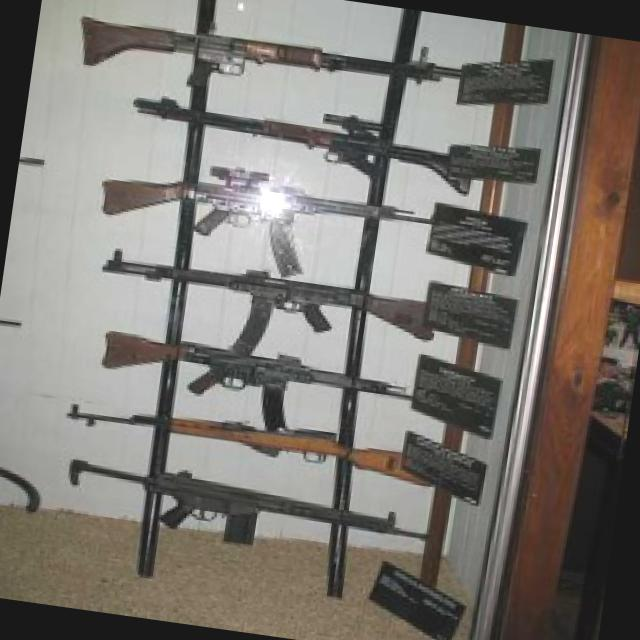long weapon: (92, 233, 444, 379), (49, 442, 431, 568), (112, 3, 502, 121), (79, 382, 438, 508), (92, 306, 442, 435), (115, 138, 434, 278), (152, 74, 462, 200)
